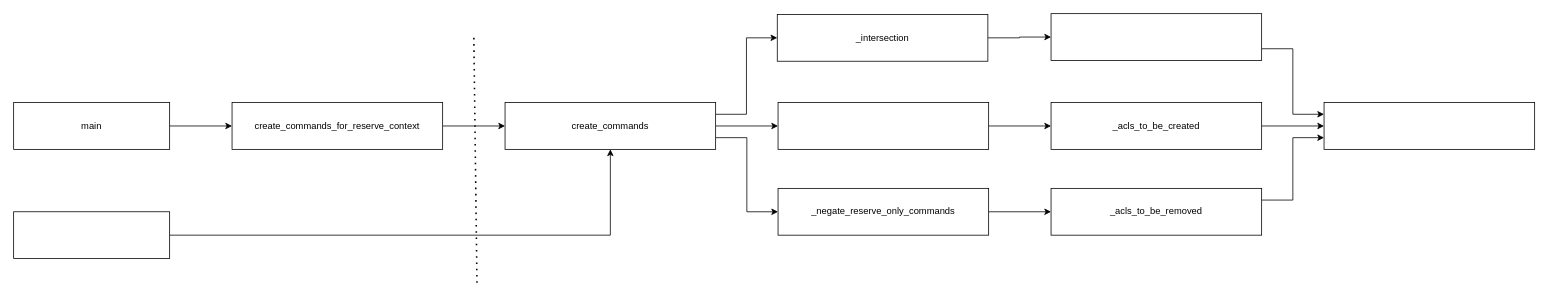
This 1548x298 diagram has some shape labels left out. The shapes that lost their labels are listed below. From the top down, each one's centre as x and y in pixels, then its label:
[1156,36]: _create_acl_changes
[883,125]: _active_only_commands
[1429,125]: _get_acl
[91,235]: show_diff_and_commands.py
